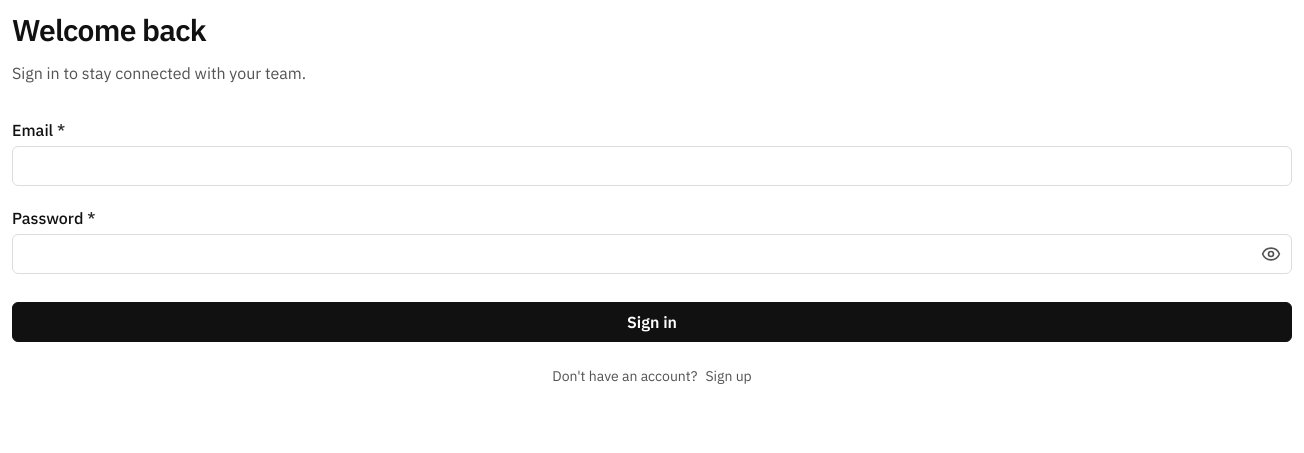
Test case: login form › shows validation errors without sending a request
Click the button "Sign in" at (652, 322), box [12,302,1292,342]
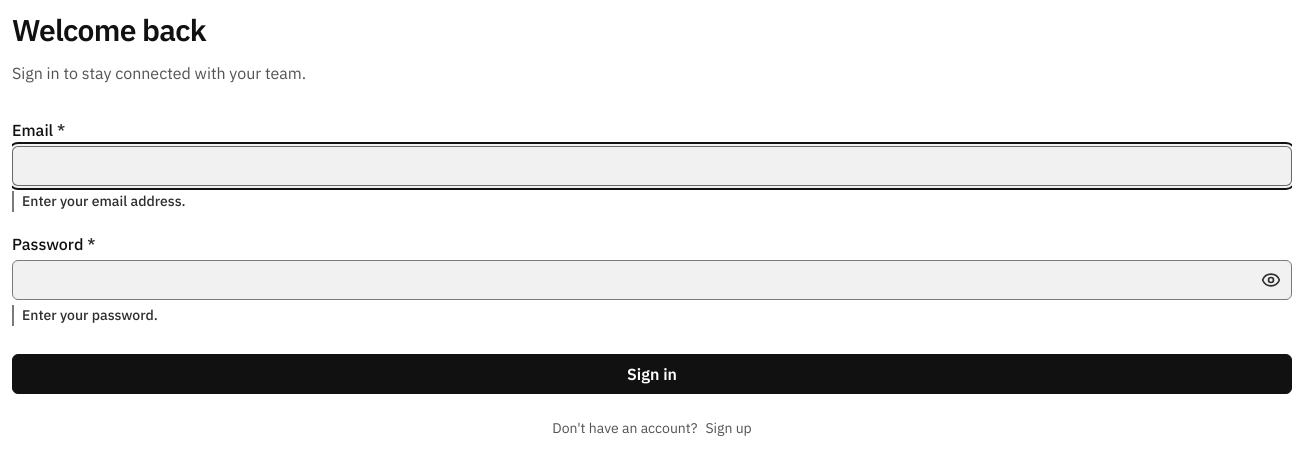
Now the text "Enter your email address." is shown, box [12,191,1292,212]
Now the text "Enter your password." is shown, box [12,305,1292,326]
